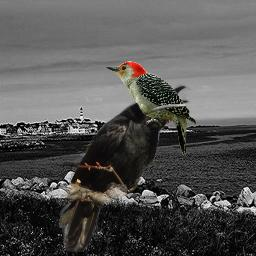Crow: (58, 82, 192, 252), (22, 212, 60, 237)
Woodpecker: (106, 61, 196, 157)
